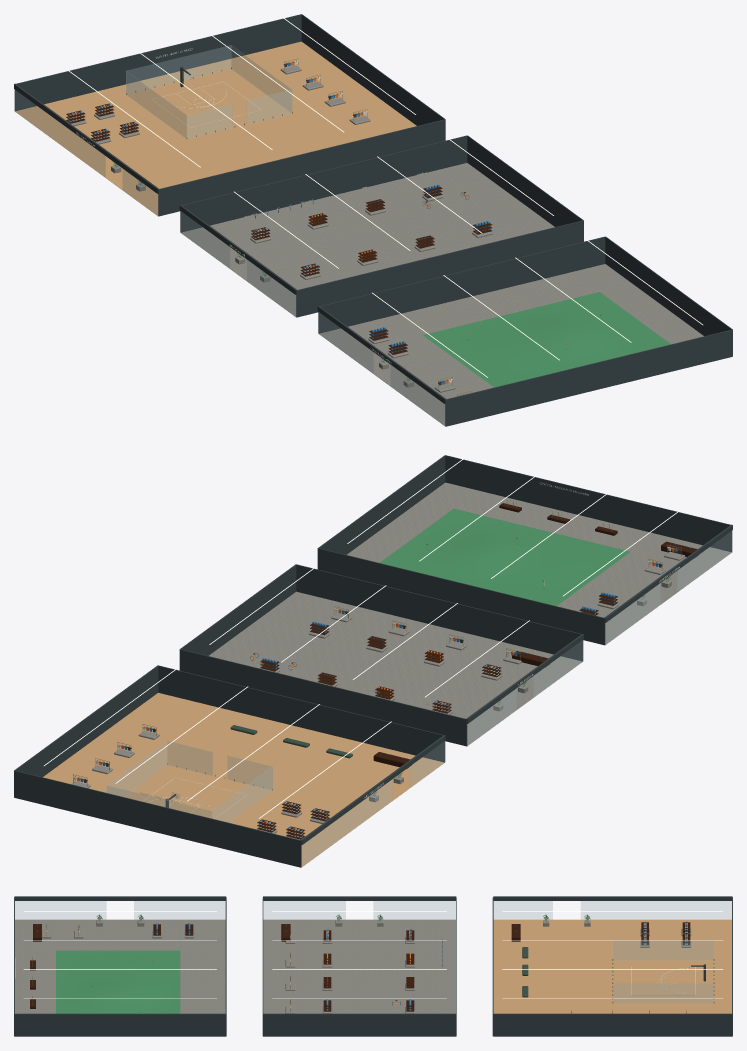
File: sports.glb
The picture shows the model from 3 angles, top to bottom: view 1: azimuth 30°, elevation 25°; view 2: azimuth 150°, elevation 25°; view 3: azimuth 270°, elevation 25°; orthographic projection. The views are drawn at different scales.
Visible parts, largest first — view 1: Batched Ink, Batched Travertine, Batched Court maple, Batched Glass, Contoured practice green, Batched Walnut, Batched Warm light; view 2: Batched Ink, Batched Travertine, Batched Court maple, Contoured practice green, Batched Glass, Batched Walnut, Batched Warm light; view 3: Batched Travertine, Batched Court maple, Batched Ink, Batched Glass, Contoured practice green, Batched Warm light, Batched Walnut, Batched Sport blue.
Boxes of the visible parts, x1,y1,x2,y2 form: Batched Ink: (14, 14, 732, 426); Batched Travertine: (67, 65, 703, 426); Batched Court maple: (15, 41, 416, 216); Batched Glass: (15, 45, 445, 425); Contoured practice green: (423, 292, 670, 387); Batched Walnut: (66, 103, 491, 354); Batched Warm light: (68, 17, 702, 377); Batched Ink: (14, 455, 732, 867); Batched Travertine: (71, 482, 731, 839); Batched Court maple: (43, 692, 444, 867); Contoured practice green: (380, 508, 630, 605); Batched Glass: (106, 531, 731, 866); Batched Walnut: (257, 503, 698, 839); Batched Warm light: (44, 458, 678, 818); Batched Travertine: (15, 919, 691, 1013); Batched Court maple: (493, 919, 731, 1013); Batched Ink: (14, 896, 732, 1036); Batched Glass: (15, 901, 731, 1002); Contoured practice green: (56, 950, 180, 1013); Batched Warm light: (23, 911, 723, 998); Batched Walnut: (30, 916, 690, 1011); Batched Sport blue: (46, 922, 687, 1013).
Bounding box in the file's own units: 60.33 × 6.74 × 156.
Materials: 14 (3 with a texture image).
